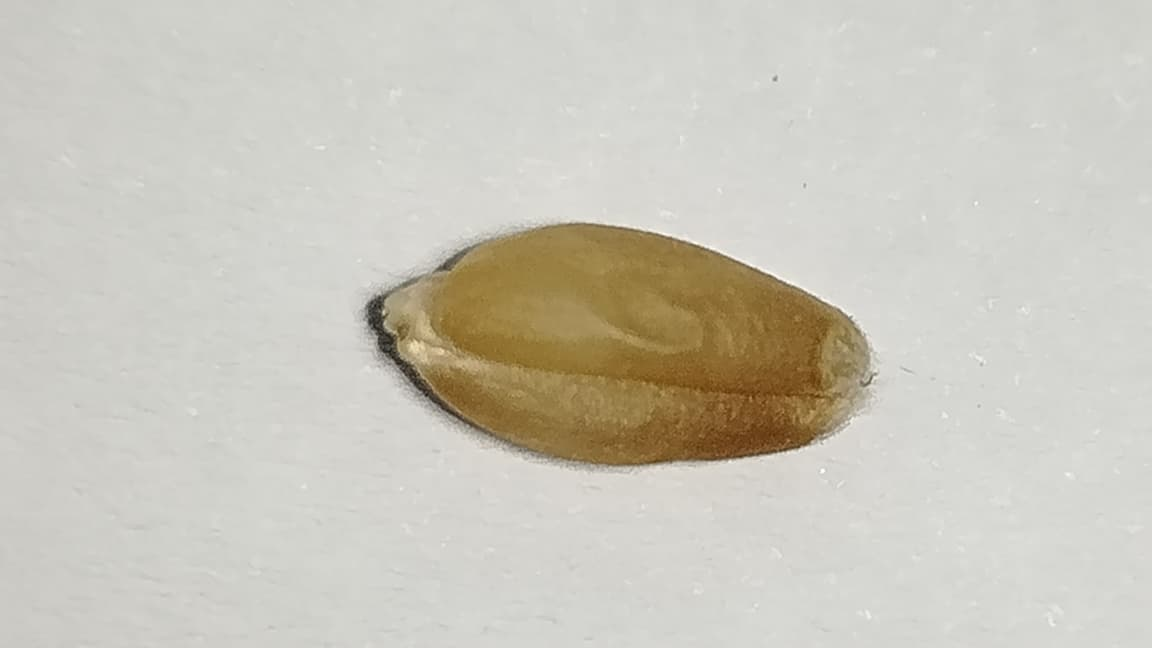healthy: (379, 224, 869, 462)
